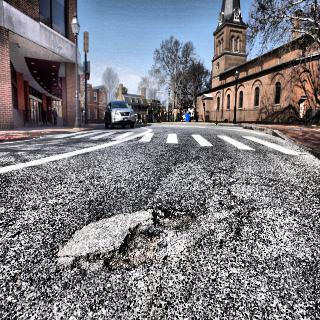pothole: (64, 195, 192, 274)
